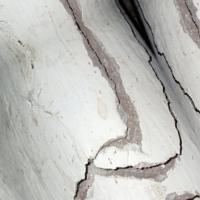crack: (59, 1, 199, 199)
